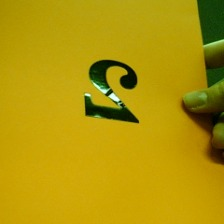orange2: (81, 55, 143, 124)
